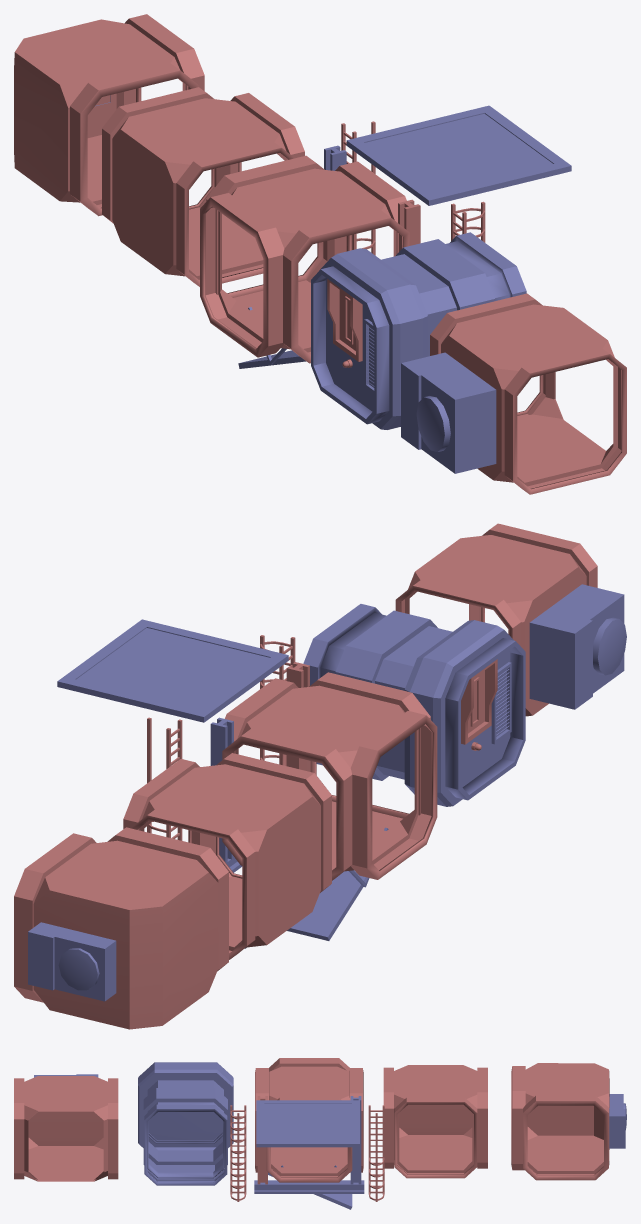
The model's file is Scifi_Bridge.fbx.
3 renders of one model, top to bottom at view 1: azimuth 30°, elevation 25°; view 2: azimuth 150°, elevation 25°; view 3: azimuth 270°, elevation 25°, orthographic. The views are drawn at different scales.
Parts seen in each view (by area): view 1: EndCapCell; view 2: EndCapCell; view 3: EndCapCell.
Part boxes in pixels (<box>): EndCapCell: <box>14,14,626,494</box>; EndCapCell: <box>14,523,626,1029</box>; EndCapCell: <box>14,1058,626,1209</box>.
Size of the model in its own units: 17194 by 10652 by 48061.
